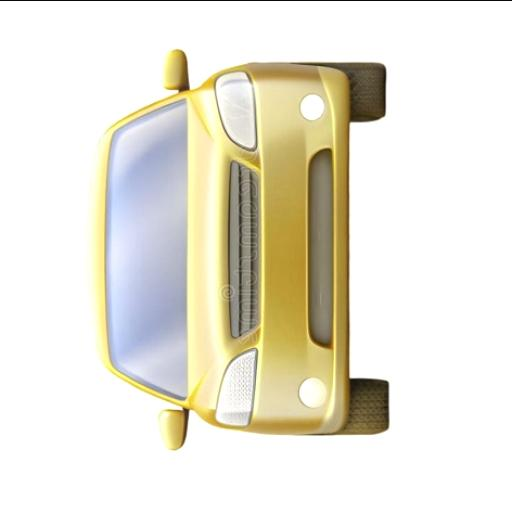sedan: (88, 48, 386, 448)
